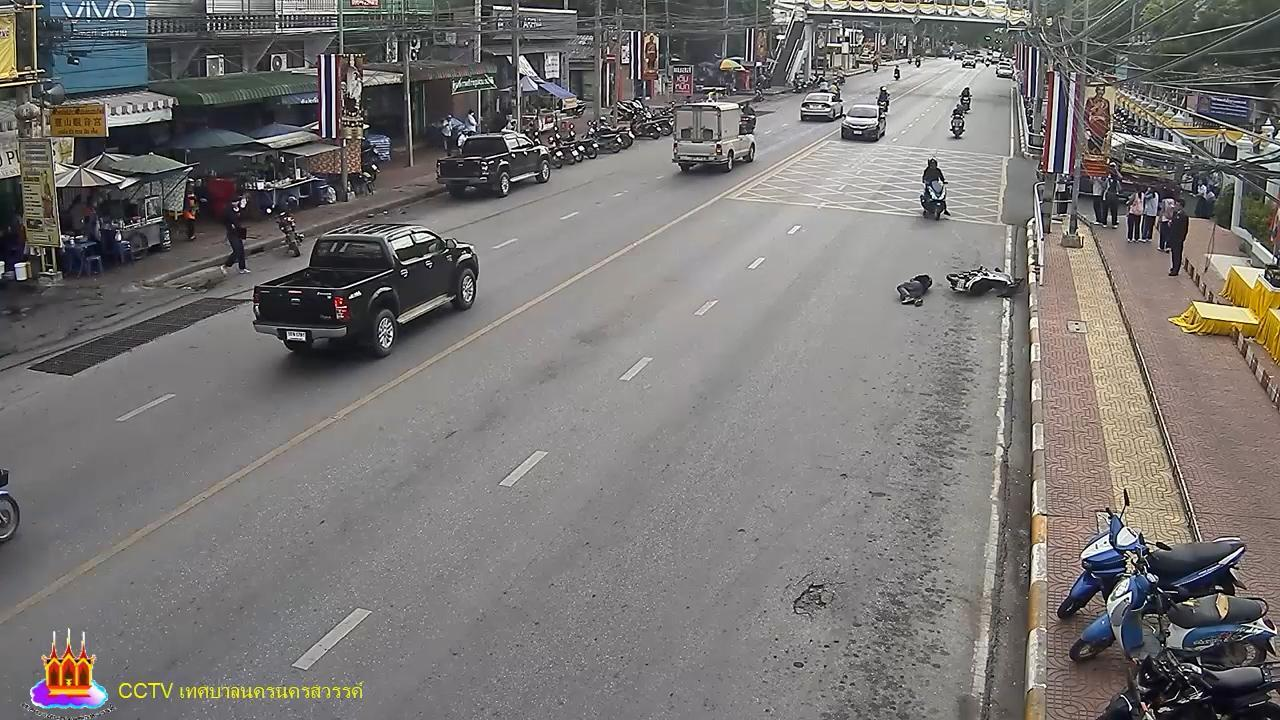accident: (897, 270, 933, 310)
